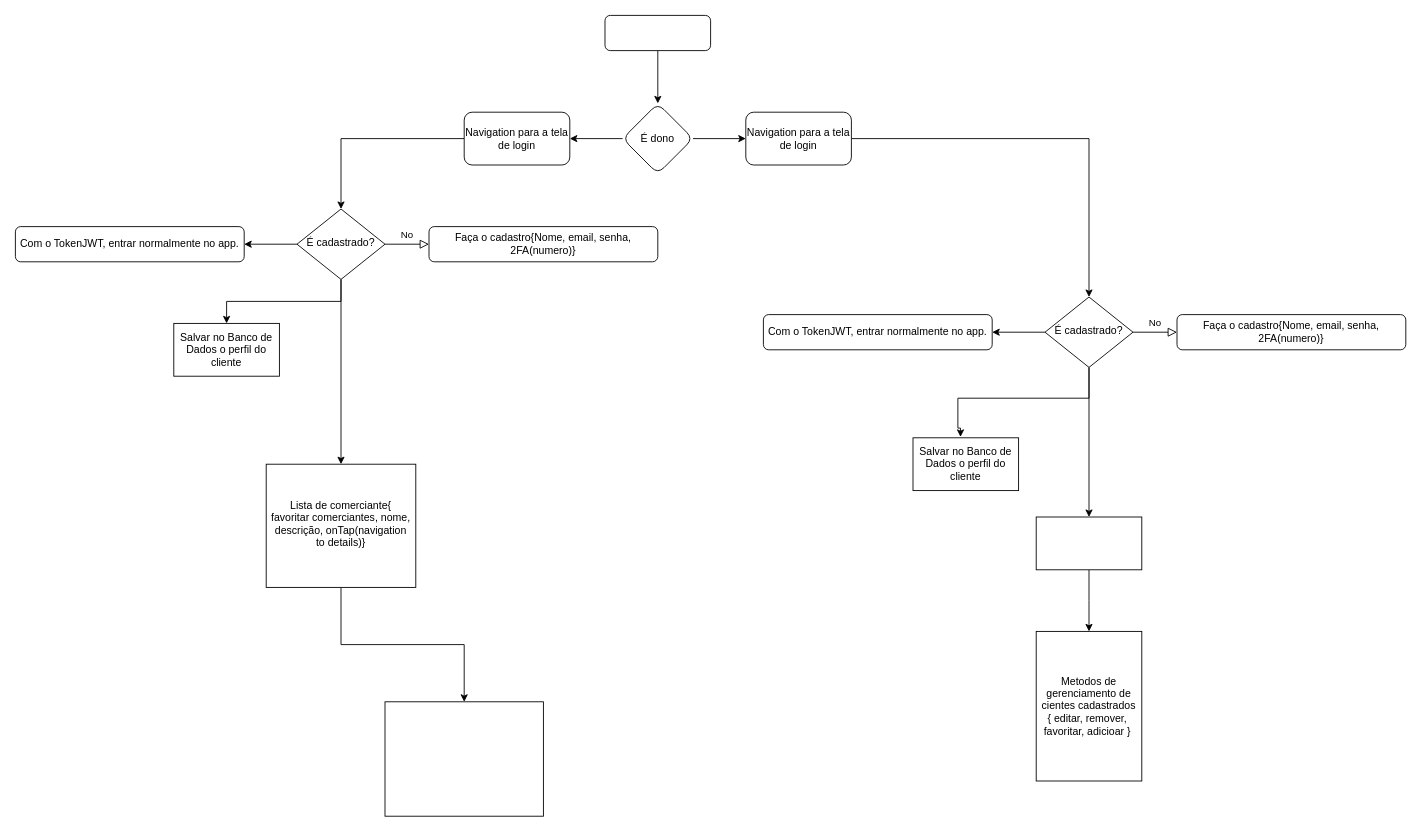
This 1421x832 diagram has some shape labels left out. The shapes that lost their labels are listed below. From the top down, each one's centre as x and y in pixels, then its label:
At (657,33): "Clente ou dono".
At (1088,543): "Home Page (Lista de usuarios Cadastrados)".
At (463,758): "Tela de detalhes dos produtos dos comerciantes { nome, descrição, }".
